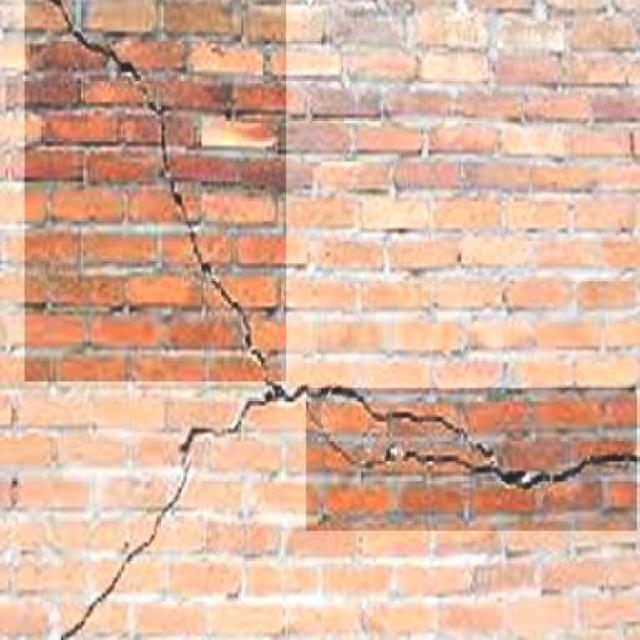crack: (24, 0, 314, 390), (50, 374, 318, 638), (278, 386, 640, 512)
